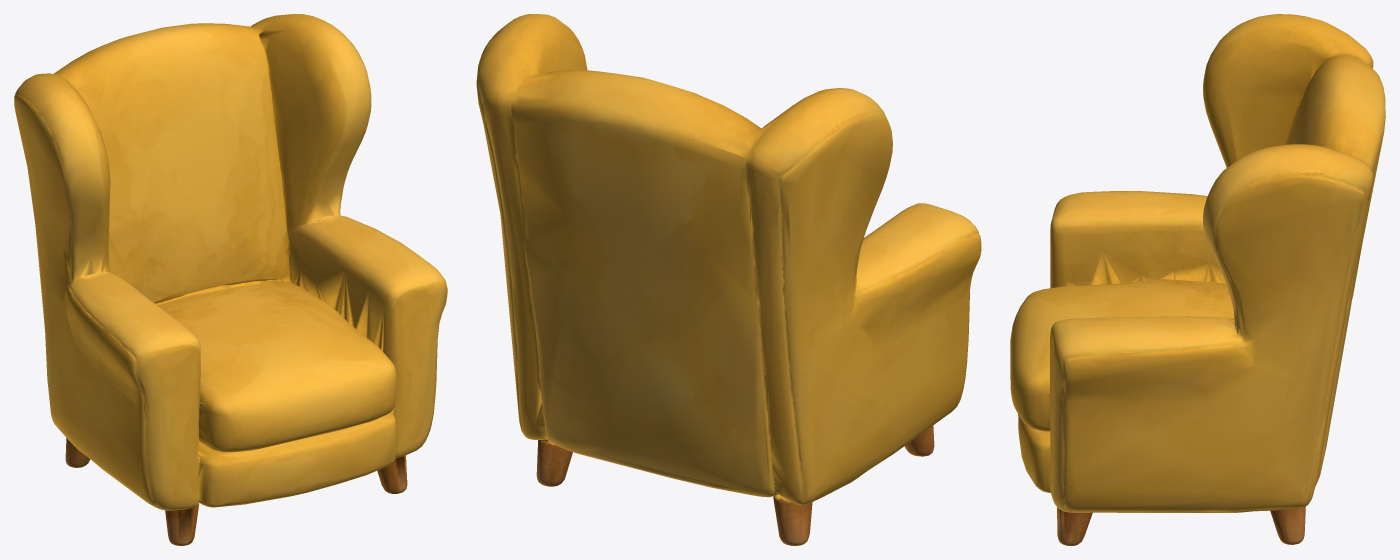
The model's file is armchair.glb.
The picture shows the model from 3 angles, left to right: view 1: azimuth 30°, elevation 25°; view 2: azimuth 150°, elevation 25°; view 3: azimuth 270°, elevation 25°; orthographic projection. The views are drawn at different scales.
Visible parts, largest first — view 1: armchair; view 2: armchair; view 3: armchair.
Boxes of the visible parts, x1=… form: armchair: x1=14, y1=14, x2=447, y2=545; armchair: x1=476, y1=14, x2=981, y2=545; armchair: x1=1010, y1=14, x2=1385, y2=545.
Size of the model in its own units: 0.669 by 0.78 by 0.6551.
Materials: 1 (1 with a texture image).
